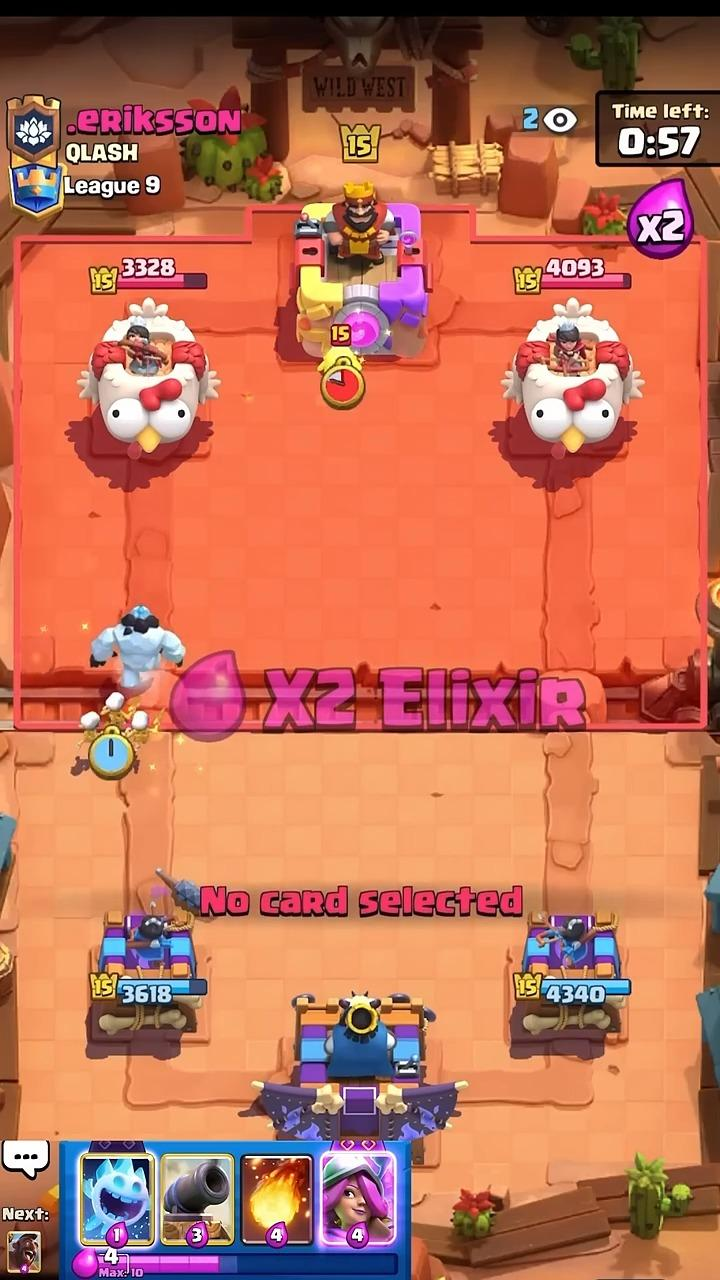heal spirit: (318, 347, 362, 374)
ice golem: (90, 606, 185, 691)
skeletons: (81, 692, 163, 748)
